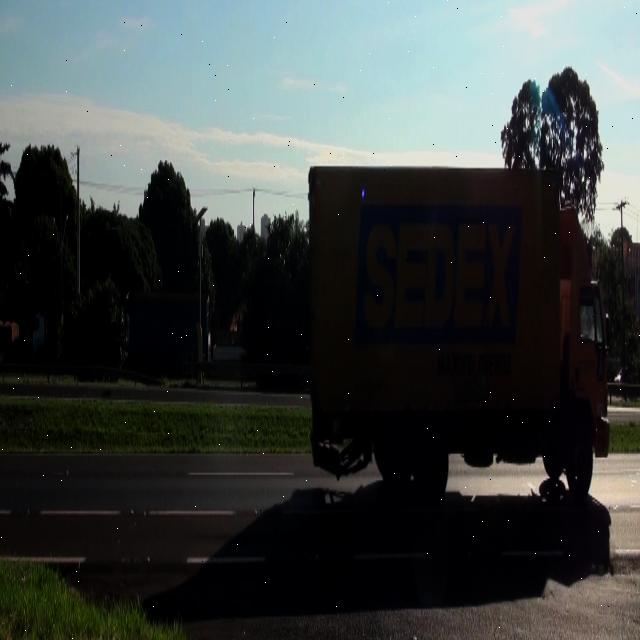-axle: (414, 423, 450, 502), (382, 416, 412, 498), (566, 420, 596, 500)
